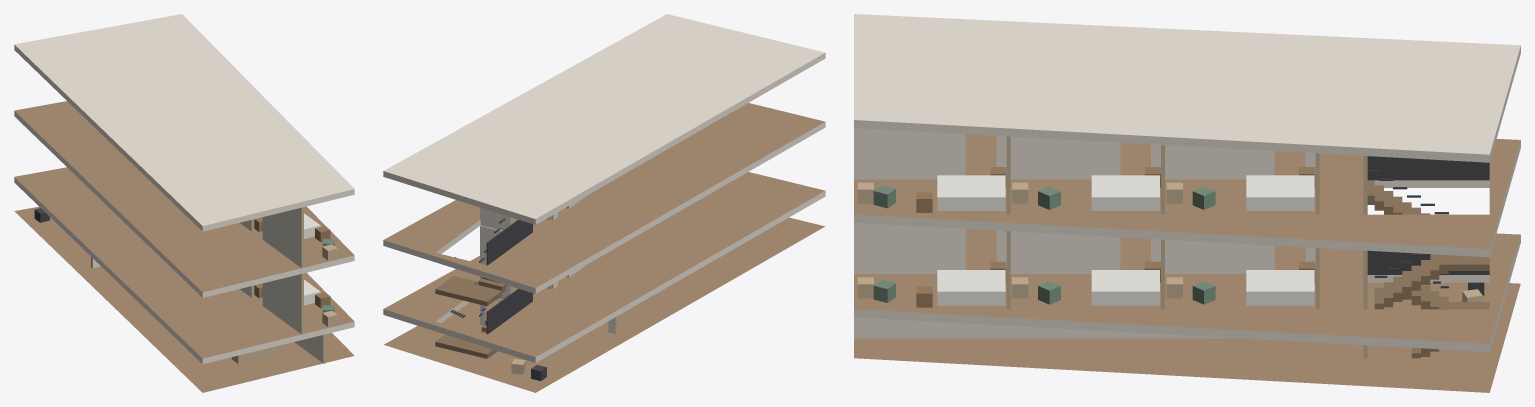
Rendered from interior.glb.
The picture shows the model from 3 angles, left to right: view 1: azimuth 30°, elevation 25°; view 2: azimuth 150°, elevation 25°; view 3: azimuth 270°, elevation 25°; orthographic projection. The views are drawn at different scales.
Visible parts, largest first — view 1: slabs, partitions, coarse-s1, coarse-s2, coarse-s0; view 2: slabs, stair, partitions, coarse-s0; view 3: slabs, partitions, coarse-s1, coarse-s2, stair.
Boxes of the visible parts, x1,y1,x2,y2 form: slabs: (14, 14, 354, 392); partitions: (91, 207, 325, 363); coarse-s1: (254, 280, 337, 326); coarse-s2: (254, 213, 337, 260); coarse-s0: (34, 208, 273, 363); slabs: (383, 14, 825, 392); stair: (435, 218, 532, 358); partitions: (480, 196, 617, 334); coarse-s0: (511, 359, 546, 380); slabs: (854, 14, 1520, 392); partitions: (854, 128, 1367, 358); coarse-s1: (857, 261, 1315, 307); coarse-s2: (857, 167, 1315, 212); stair: (1367, 156, 1489, 358).
Size of the model in its own units: 9.73 by 7.7 by 19.48.
